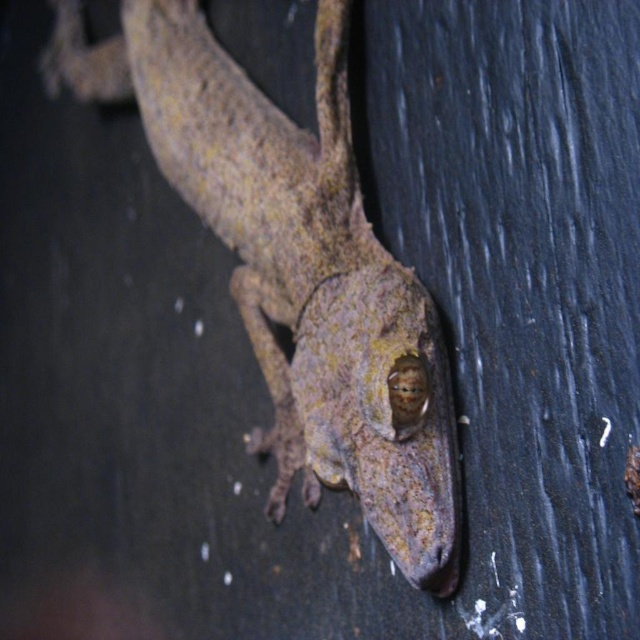Lizard: (57, 1, 462, 603)
